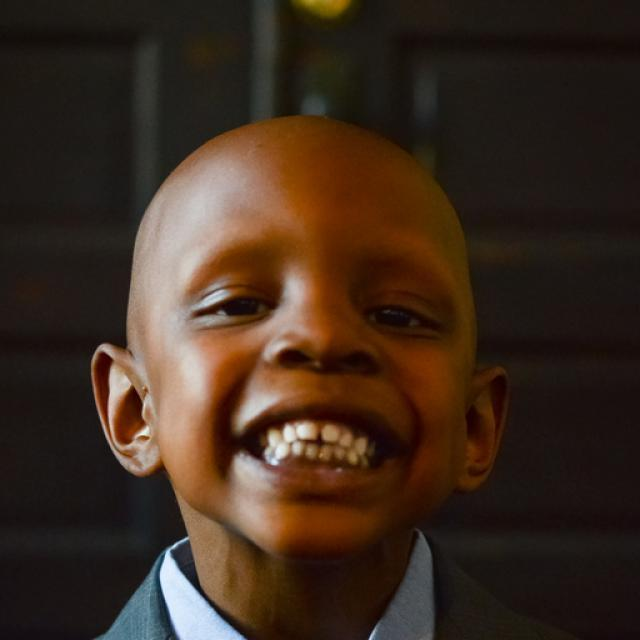happy: (148, 150, 472, 560)
